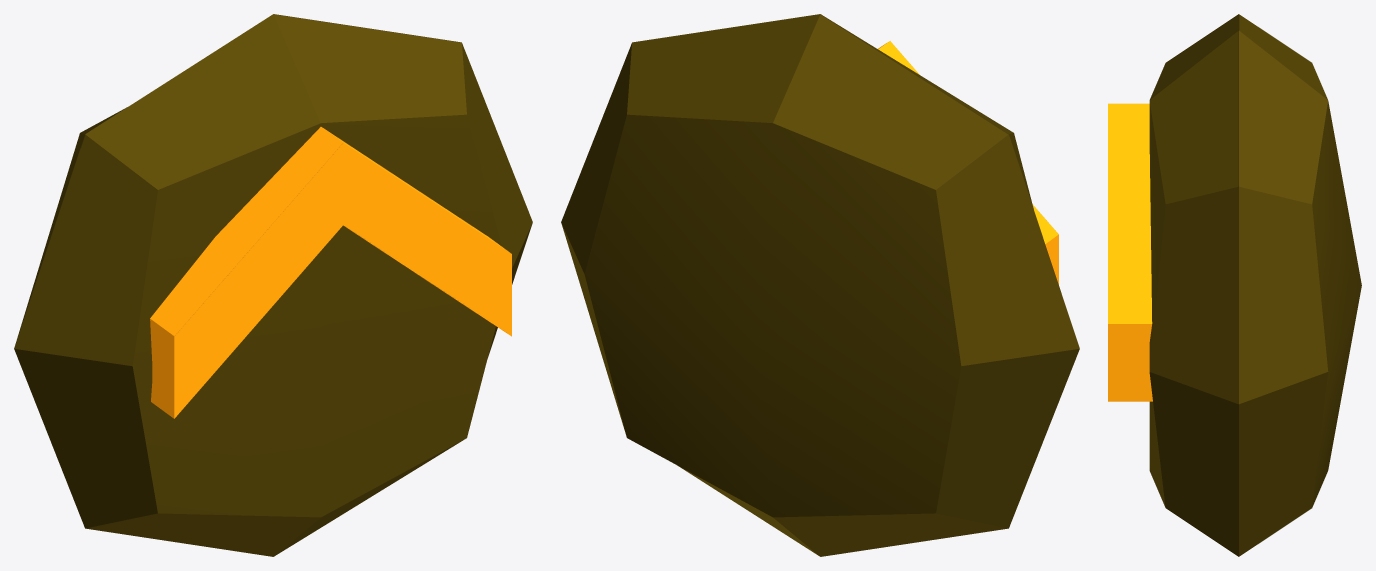
The model's file is orbUP.fbx.
3 renders of one model, left to right at view 1: azimuth 30°, elevation 25°; view 2: azimuth 150°, elevation 25°; view 3: azimuth 270°, elevation 25°, orthographic. The views are drawn at different scales.
Parts seen in each view (by area): view 1: Cube, Cube.001; view 2: Cube, Cube.001; view 3: Cube, Cube.001.
Boxes of the visible parts, x1=… form: Cube: x1=14, y1=14, x2=532, y2=556; Cube.001: x1=150, y1=127, x2=511, y2=418; Cube: x1=561, y1=14, x2=1079, y2=556; Cube.001: x1=878, y1=41, x2=1058, y2=284; Cube: x1=1149, y1=14, x2=1361, y2=556; Cube.001: x1=1108, y1=103, x2=1152, y2=401.
Bounding box in the file's own units: 168 × 168 × 75.75.
Materials: 2 (2 with a texture image).
